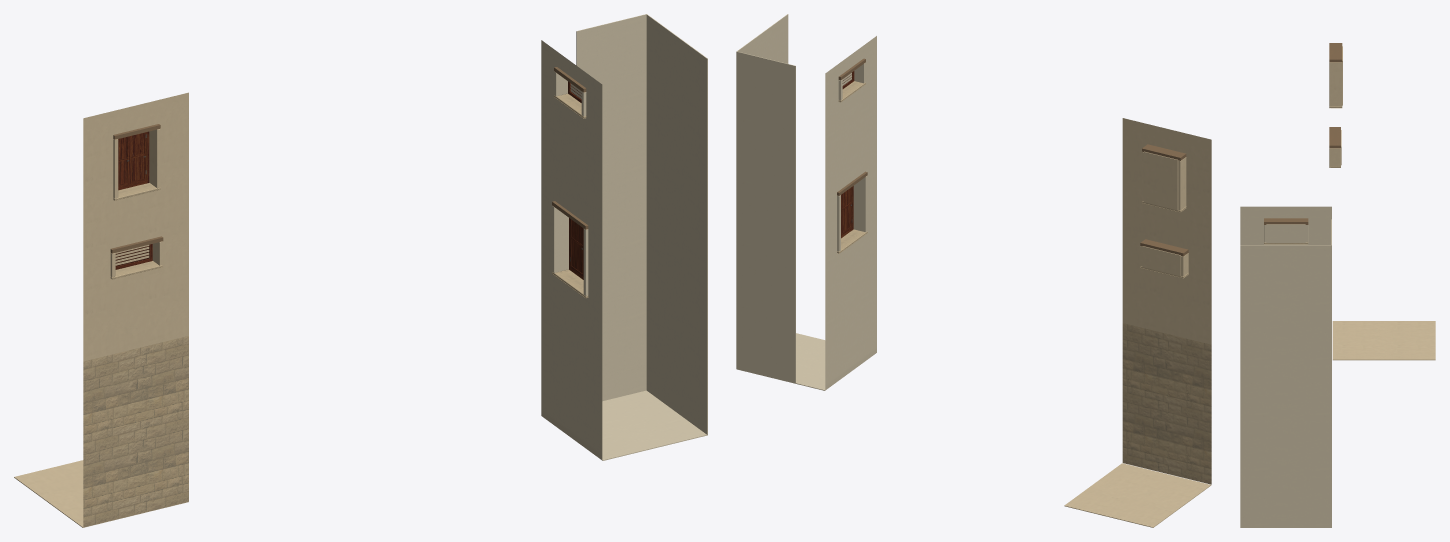
Rendered from fountain-receivers-rug-gate.glb.
The picture shows the model from 3 angles, left to right: view 1: azimuth 30°, elevation 25°; view 2: azimuth 150°, elevation 25°; view 3: azimuth 270°, elevation 25°; orthographic projection. The views are drawn at different scales.
Parts seen in each view (by area): view 1: bz06_pale_lime.002-cast, bz06_cream_plaster.003-cast, bz06_dressed_sandstone.007-cast, ph_bz04_dark_wood.004-cast, bz06_monolithic_stone_trim.005-cast, bz04_craft_warm_timber.005-cast; view 2: bz06_pale_lime.002-cast, bz06_cream_plaster.003-cast, bz06_dressed_sandstone.007-cast, bz04_craft_warm_timber.005-cast, bz06_monolithic_stone_trim.005-cast, ph_bz04_dark_wood.004-cast; view 3: bz06_pale_lime.002-cast, bz06_cream_plaster.003-cast, bz04_craft_warm_timber.005-cast.
Part boxes in pixels (x1,y1,x2,y2): bz06_pale_lime.002-cast: (541,14,707,460); bz06_cream_plaster.003-cast: (14,92,188,527); bz06_dressed_sandstone.007-cast: (83,336,188,527); ph_bz04_dark_wood.004-cast: (115,81,583,279); bz06_monolithic_stone_trim.005-cast: (110,93,588,298); bz04_craft_warm_timber.005-cast: (110,67,588,253); bz06_pale_lime.002-cast: (736,14,876,390); bz06_cream_plaster.003-cast: (1064,118,1211,527); bz06_dressed_sandstone.007-cast: (1122,323,1211,484); bz04_craft_warm_timber.005-cast: (837,58,1188,256); bz06_monolithic_stone_trim.005-cast: (837,81,1188,278); ph_bz04_dark_wood.004-cast: (841,71,854,238); bz06_pale_lime.002-cast: (1240,206,1331,527); bz06_cream_plaster.003-cast: (1329,46,1435,360); bz04_craft_warm_timber.005-cast: (1264,43,1342,224).
Bounding box in the file's own units: 16 × 11.12 × 6.4.
Materials: 7 (7 with a texture image).
